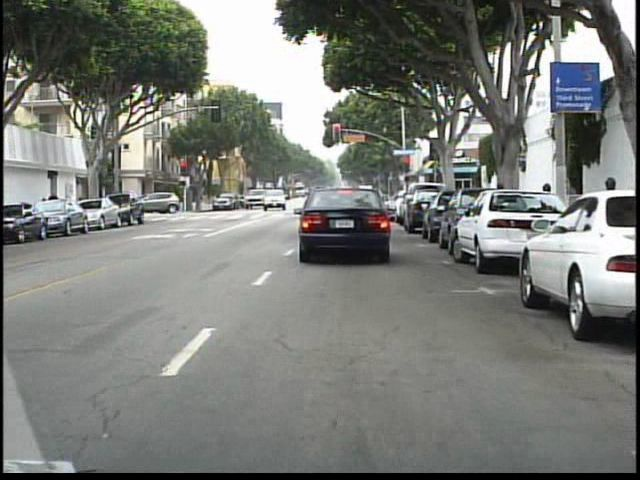person: (45, 188, 62, 227), (145, 190, 161, 218)
